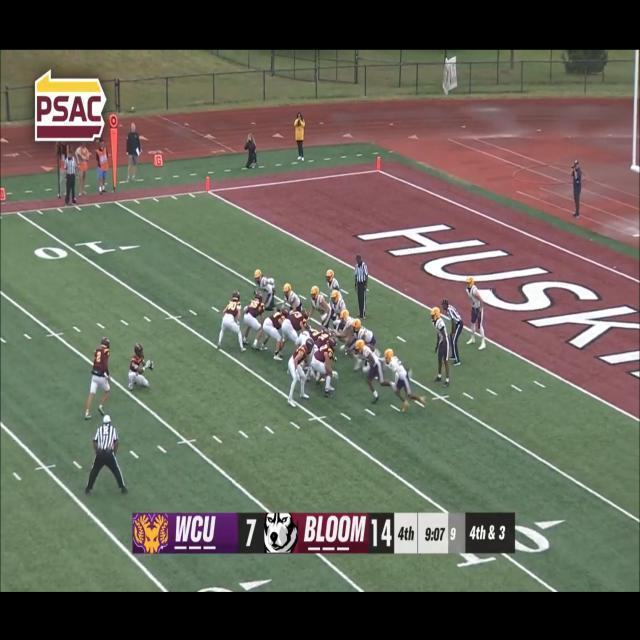football: (146, 357, 154, 378)
